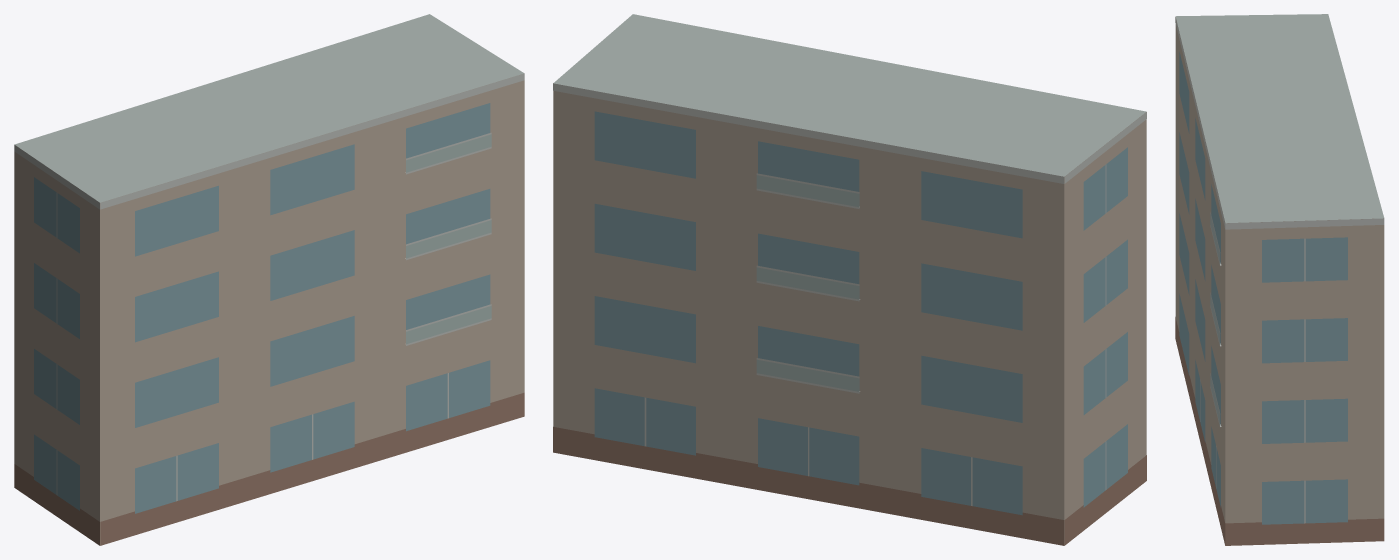
File: survey-upis-32751237.glb
3 views of the same model, side by side, from view 1: azimuth 30°, elevation 25°; view 2: azimuth 150°, elevation 25°; view 3: azimuth 270°, elevation 25° (orthographic). The views are drawn at different scales.
Visible parts, largest first — view 1: survey-upis-32751237.tmp; view 2: survey-upis-32751237.tmp; view 3: survey-upis-32751237.tmp.
Part boxes in pixels (x1,y1,x2,y2): survey-upis-32751237.tmp: (14, 14, 524, 545); survey-upis-32751237.tmp: (553, 14, 1146, 545); survey-upis-32751237.tmp: (1175, 14, 1384, 545).
Bounding box in the file's own units: 16.97 × 12.2 × 7.17.
